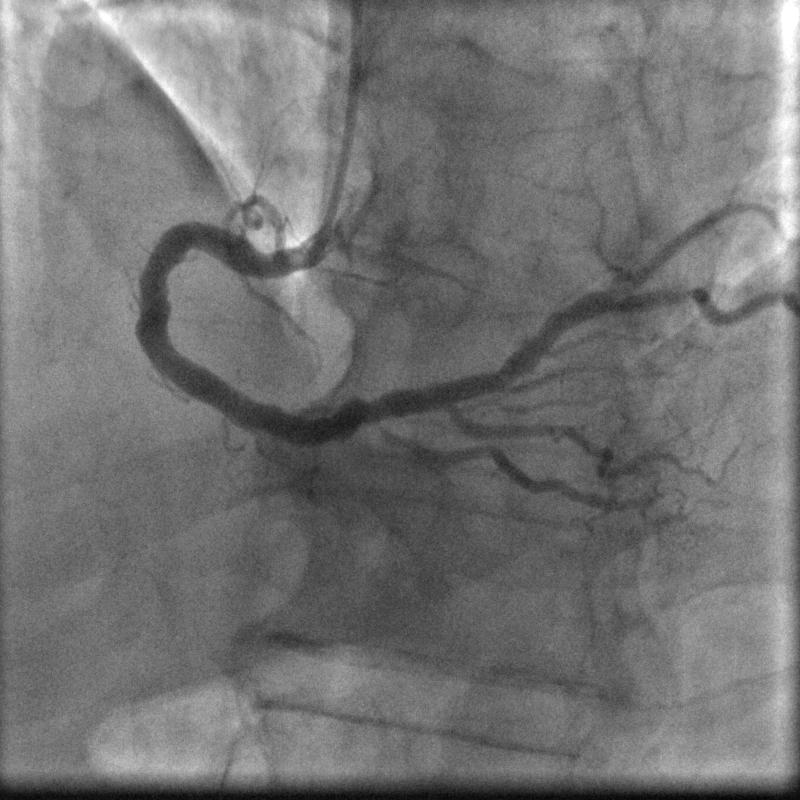Stenosis: (645, 285, 706, 307)
